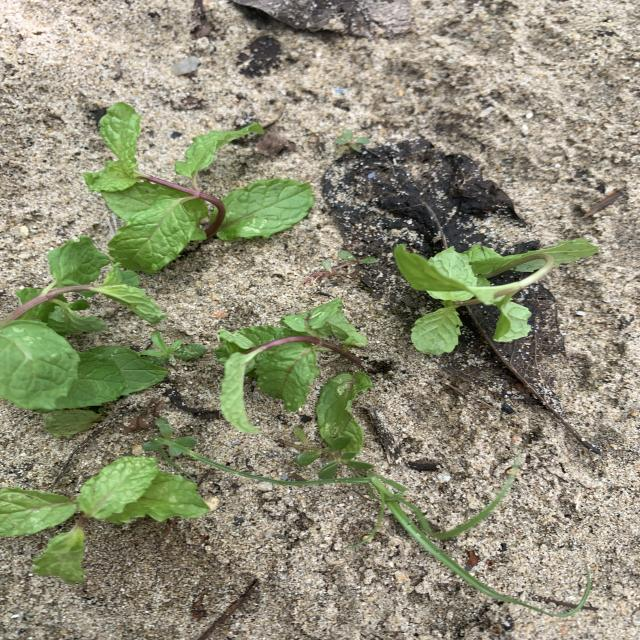crop: (83, 100, 313, 272), (2, 236, 167, 434), (0, 456, 209, 582), (394, 238, 592, 353), (216, 300, 371, 440)
weed: (190, 452, 539, 609), (278, 428, 371, 479), (306, 250, 375, 283), (141, 333, 206, 362), (143, 437, 195, 456), (334, 130, 369, 154)
